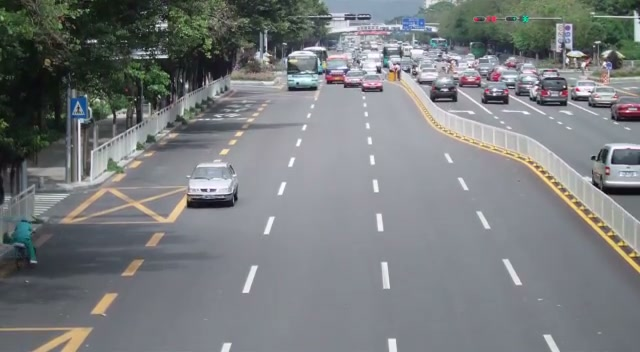bus: (286, 51, 321, 90)
car: (186, 161, 239, 208), (591, 143, 640, 193), (533, 78, 569, 106), (429, 76, 459, 102), (610, 97, 640, 122), (588, 86, 620, 108), (325, 58, 351, 85), (481, 84, 510, 104), (570, 80, 598, 100), (515, 78, 539, 96), (344, 69, 367, 87), (360, 75, 384, 92), (417, 70, 438, 85), (459, 73, 481, 87), (501, 72, 519, 88)
